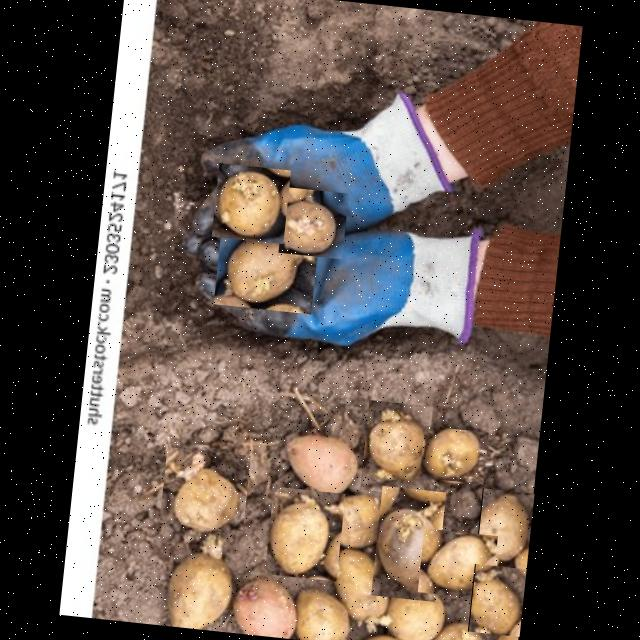Sprouted potato: (212, 224, 318, 314), (310, 540, 405, 634), (370, 486, 444, 602), (263, 486, 344, 581), (158, 447, 249, 531), (358, 400, 432, 496), (210, 162, 290, 244), (416, 528, 496, 599), (276, 186, 348, 258), (473, 488, 533, 573), (466, 564, 525, 636), (418, 426, 487, 484)
